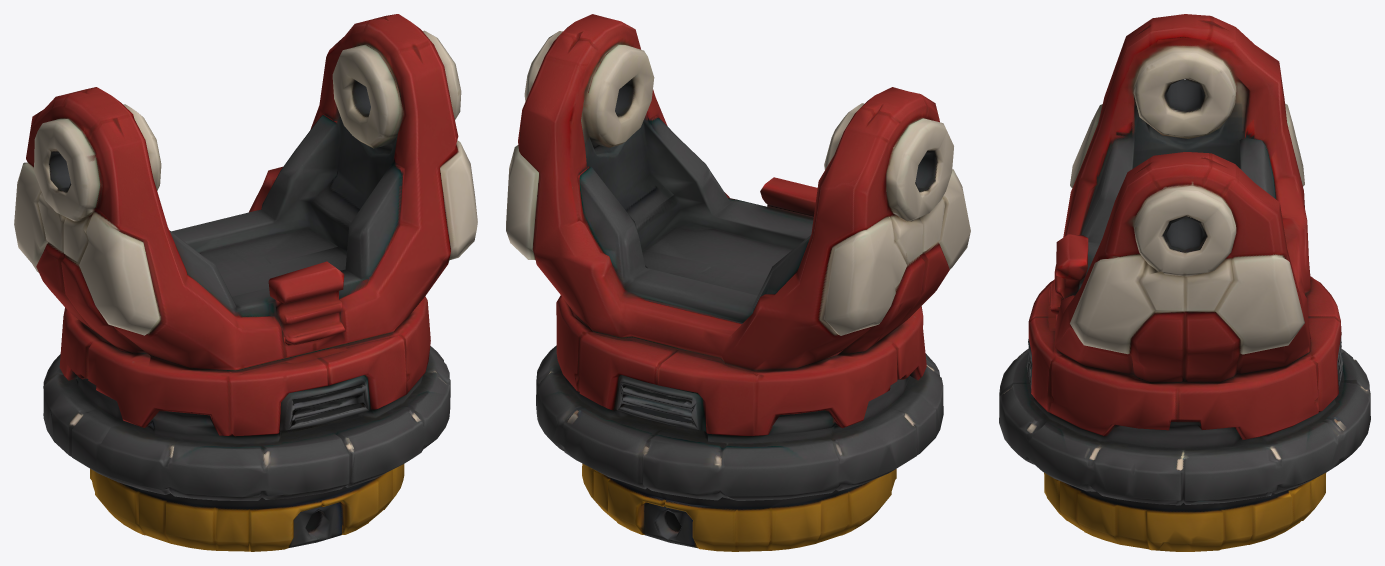
Rendered from gimbal-base.glb.
3 renders of one model, left to right at view 1: azimuth 30°, elevation 25°; view 2: azimuth 150°, elevation 25°; view 3: azimuth 270°, elevation 25°, orthographic. The views are drawn at different scales.
Visible parts, largest first — view 1: tripo_node_1e0900c1-dccd-432a-9643-b9d6aacf5dc8; view 2: tripo_node_1e0900c1-dccd-432a-9643-b9d6aacf5dc8; view 3: tripo_node_1e0900c1-dccd-432a-9643-b9d6aacf5dc8.
Part boxes in pixels (x1,y1,x2,y2): tripo_node_1e0900c1-dccd-432a-9643-b9d6aacf5dc8: (14, 14, 477, 551); tripo_node_1e0900c1-dccd-432a-9643-b9d6aacf5dc8: (506, 14, 970, 551); tripo_node_1e0900c1-dccd-432a-9643-b9d6aacf5dc8: (999, 14, 1370, 551).
Bounding box in the file's own units: 0.9083 × 0.9797 × 0.8153.
Materials: 1 (1 with a texture image).
